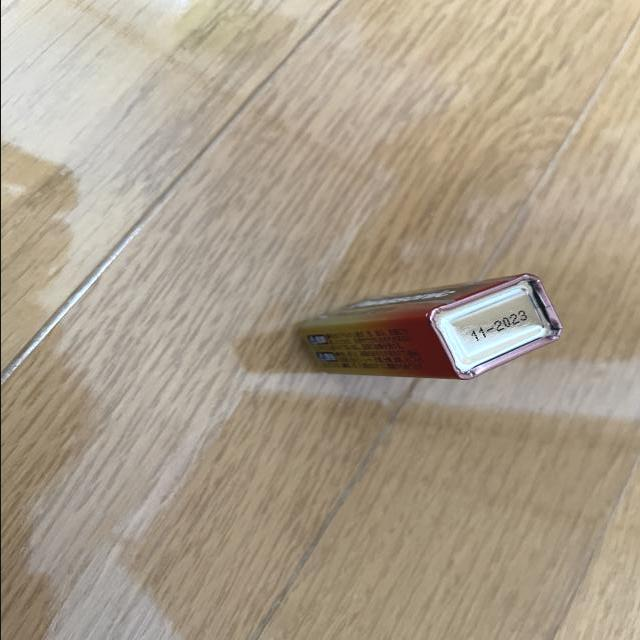9V: (299, 272, 562, 379)
